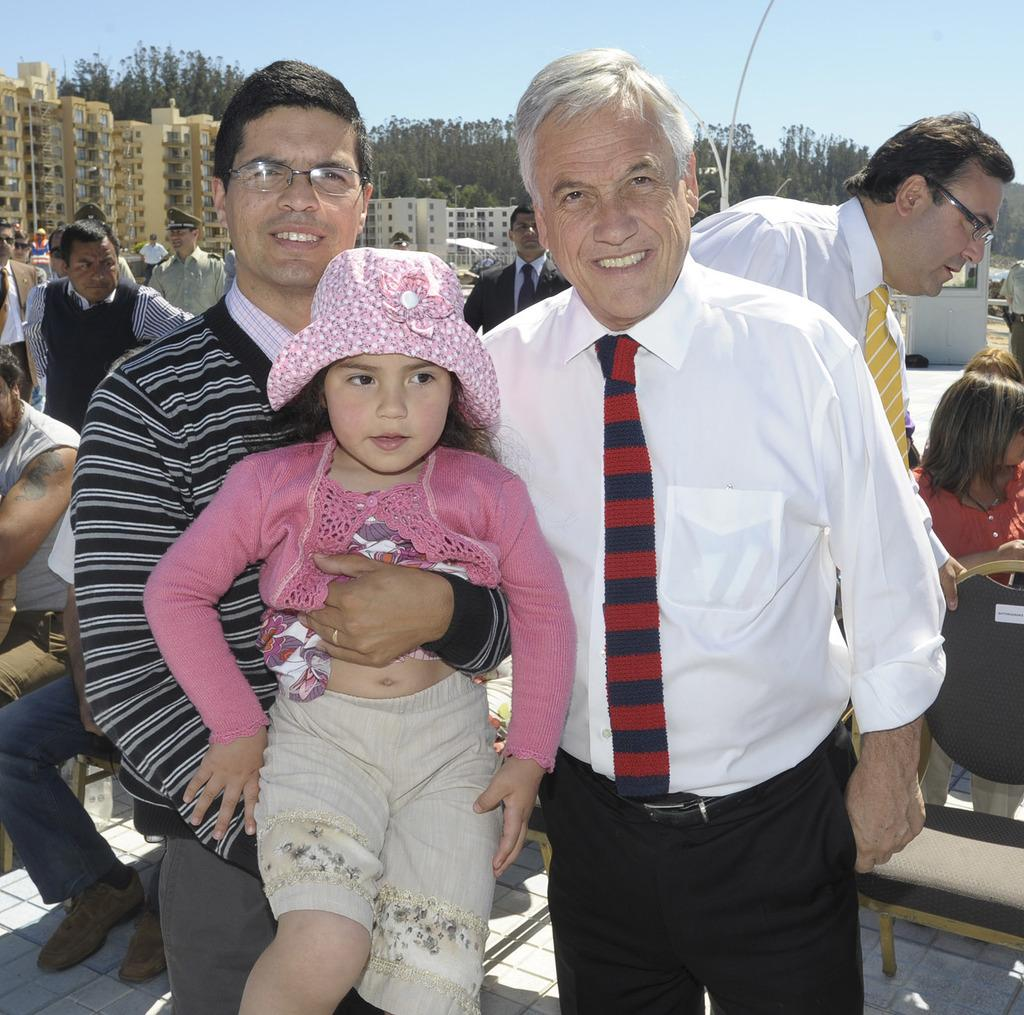Hat: (265, 249, 500, 435), (166, 205, 197, 230)
